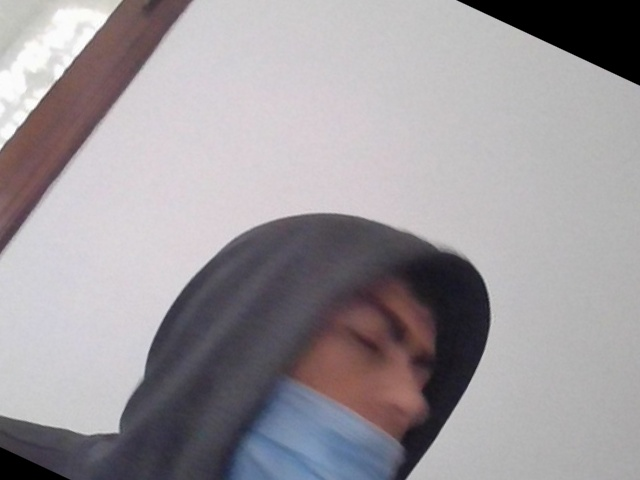mask_weared_incorrect: (234, 249, 455, 480)
